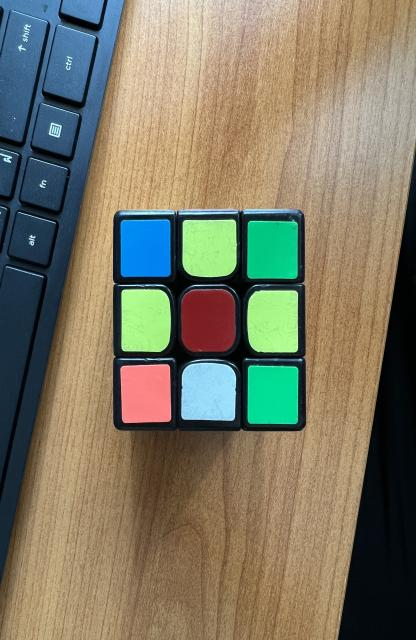Blue: (120, 219, 171, 278)
Green: (247, 221, 298, 279), (248, 365, 298, 424)
Orange: (120, 364, 171, 424)
Red: (181, 289, 236, 352)
White: (181, 362, 236, 421)
Yellow: (182, 219, 237, 278), (247, 290, 298, 352), (121, 289, 171, 352)
